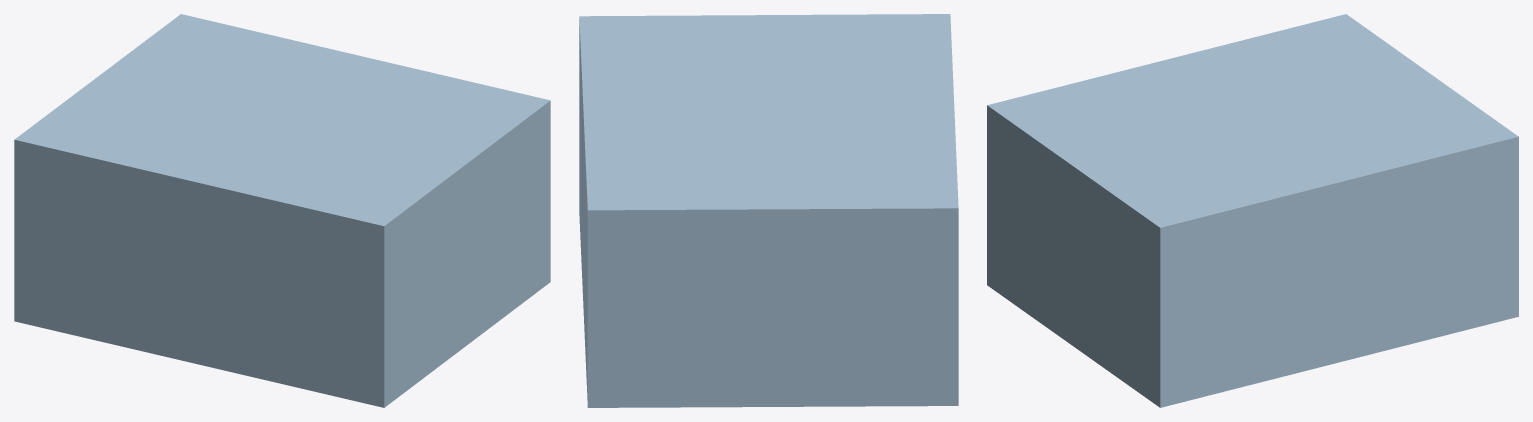
The model's file is osm_way_225109136.glb.
3 views of the same model, side by side, from view 1: azimuth 30°, elevation 25°; view 2: azimuth 150°, elevation 25°; view 3: azimuth 270°, elevation 25° (orthographic). The views are drawn at different scales.
Visible parts, largest first — view 1: osm_way_225109136; view 2: osm_way_225109136; view 3: osm_way_225109136.
Boxes of the visible parts, x1,y1,x2,y2 form: osm_way_225109136: (14,14,550,407); osm_way_225109136: (579,14,958,407); osm_way_225109136: (987,14,1518,407).
Size of the model in its own units: 10.19 by 4 by 10.71.
